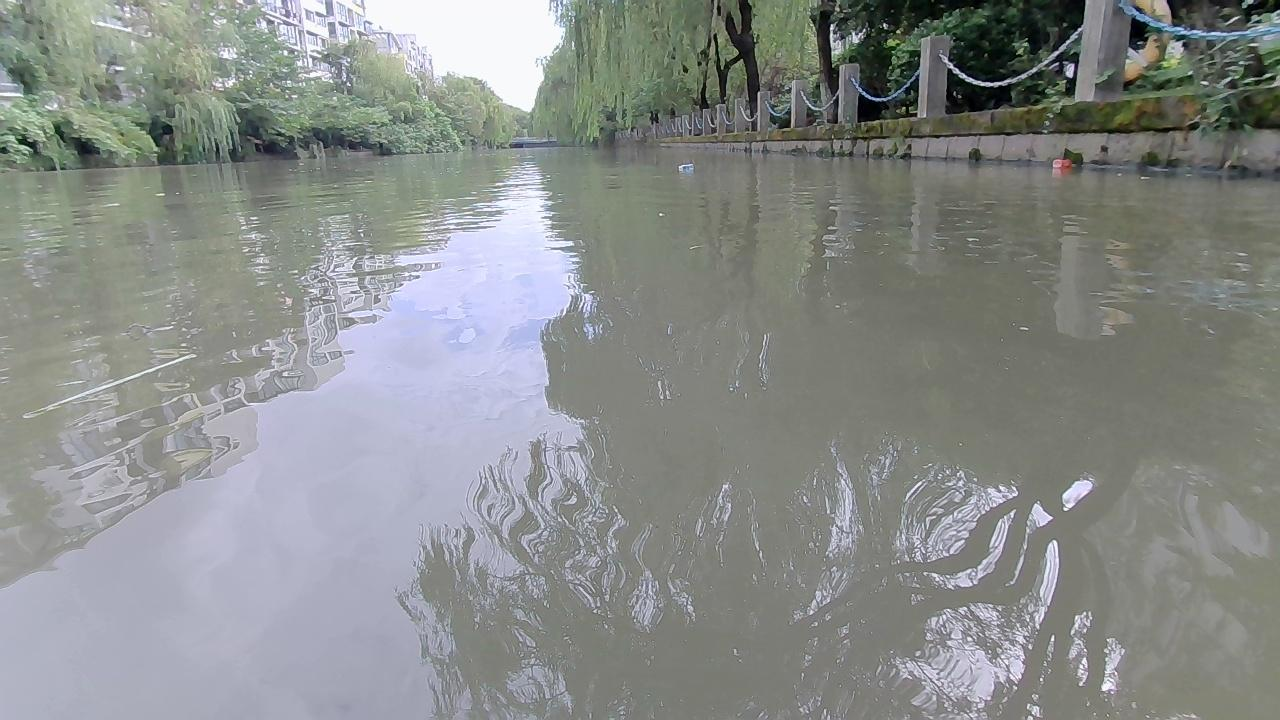bottle: (674, 158, 699, 173), (1052, 155, 1073, 169)
